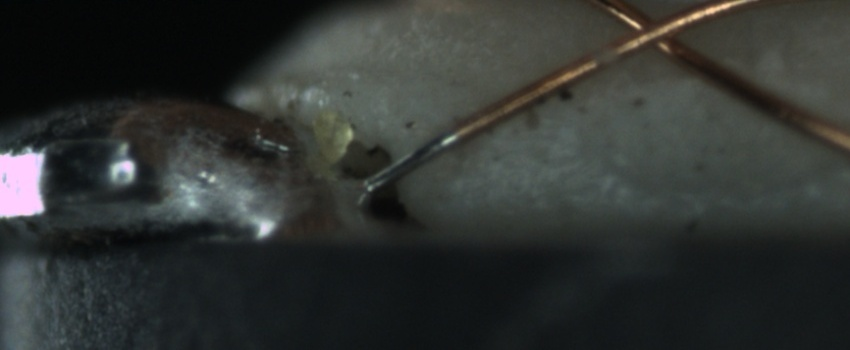CL: (603, 2, 709, 65)
TS: (366, 132, 458, 192)
